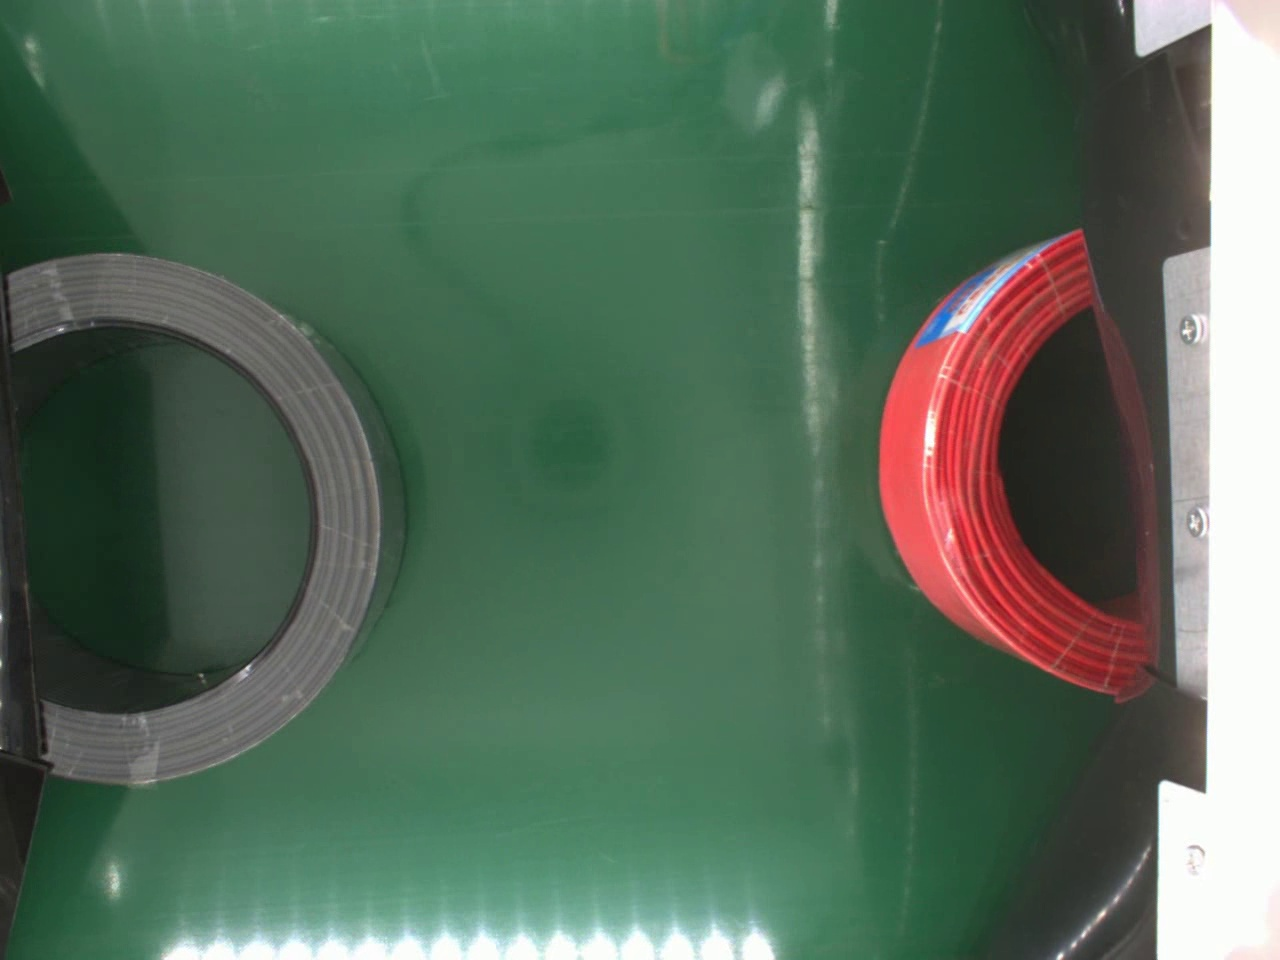black: (6, 247, 411, 785)
red: (872, 228, 1151, 701)
